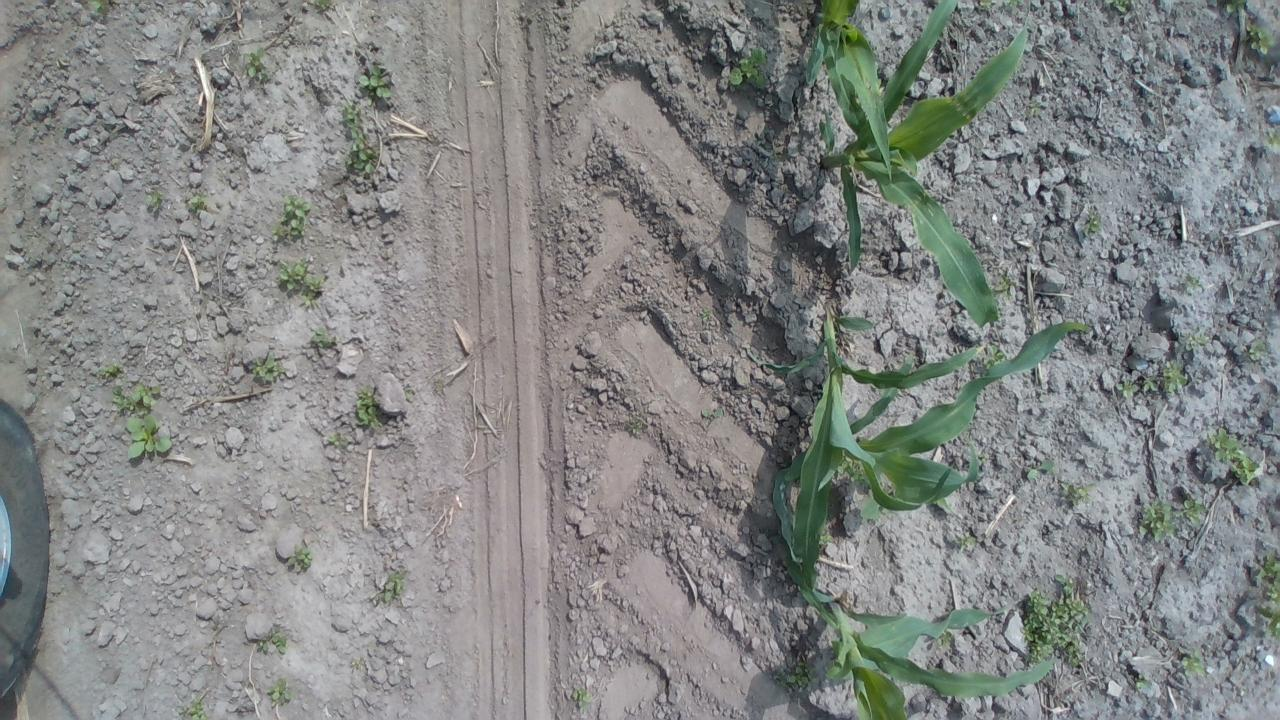Maize: (759, 308, 1090, 591), (811, 1, 1023, 326), (760, 539, 1056, 720), (801, 0, 906, 164)
Weeds: (1020, 578, 1092, 674), (110, 379, 172, 460), (1202, 425, 1260, 486), (341, 97, 382, 176), (1136, 497, 1194, 543), (1114, 361, 1186, 398), (276, 257, 326, 307), (1251, 548, 1277, 638), (270, 194, 312, 244), (727, 44, 769, 89), (356, 60, 393, 108), (770, 660, 816, 692), (354, 384, 385, 430), (1242, 21, 1275, 59), (249, 351, 285, 383), (243, 46, 273, 84), (373, 570, 406, 604), (836, 452, 864, 488), (257, 628, 290, 655), (177, 693, 210, 719), (285, 544, 315, 572), (266, 676, 294, 706), (979, 343, 1007, 372), (1181, 648, 1207, 679), (1061, 480, 1091, 506), (1024, 458, 1056, 482), (308, 327, 339, 350), (951, 531, 979, 554), (992, 273, 1016, 298), (187, 190, 210, 216), (1082, 208, 1102, 236), (144, 187, 164, 214), (1246, 340, 1268, 364), (1182, 331, 1208, 350), (572, 684, 591, 710), (83, 0, 114, 15), (626, 415, 647, 436), (933, 628, 953, 650), (700, 404, 724, 422), (1132, 673, 1154, 692), (99, 362, 123, 379), (1260, 128, 1277, 152), (1182, 273, 1202, 292), (1024, 97, 1042, 118), (324, 433, 348, 448), (1108, 0, 1134, 13), (348, 654, 366, 671), (698, 304, 714, 322), (1225, 0, 1247, 13), (311, 0, 338, 10), (977, 0, 997, 12), (1002, 0, 1023, 9)
